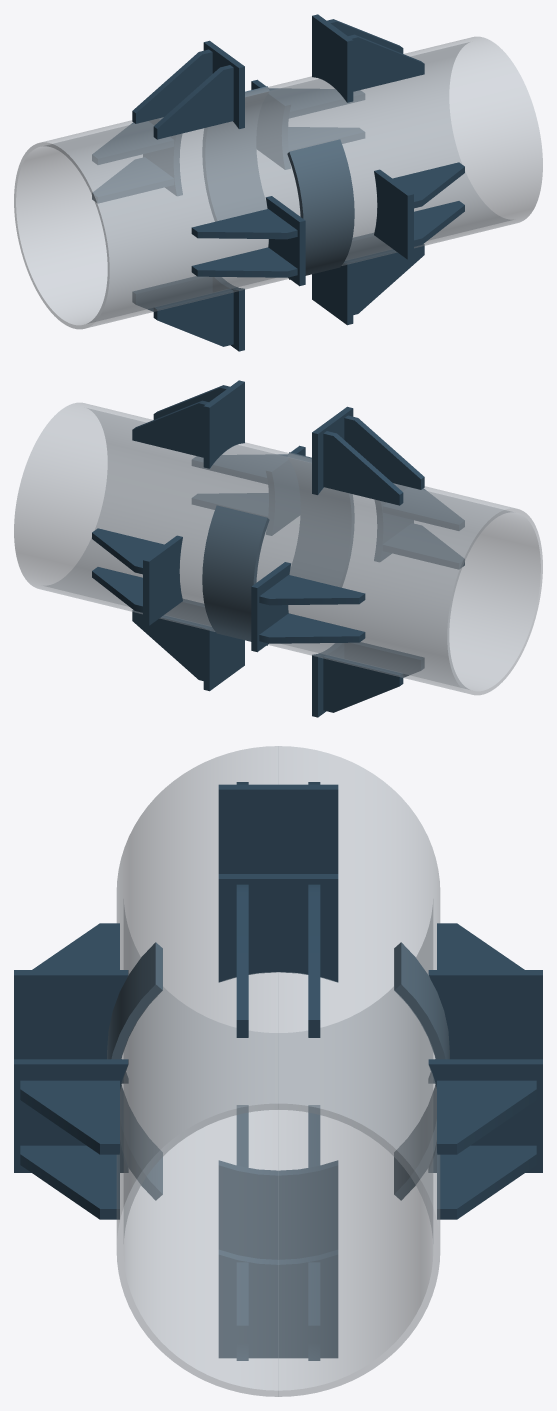
The model's file is TS-668.00.00-02-opora-dn325-ris1.glb.
3 renders of one model, top to bottom at view 1: azimuth 30°, elevation 25°; view 2: azimuth 150°, elevation 25°; view 3: azimuth 270°, elevation 25°, orthographic. The views are drawn at different scales.
Parts seen in each view (by area): view 1: truba, bok_25, bok_26, upor_6, upor_17, upor_1, upor_7, upor_3, upor_14, upor_5, upor_11, upor_12 (+15 smaller); view 2: truba, bok_26, bok_25, upor_5, upor_18, upor_1, upor_19, upor_2, upor_15, upor_6, upor_24, upor_23 (+15 smaller); view 3: truba, upor_4, upor_16, upor_1, upor_13, upor_10, upor_22, bok_25, bok_26, upor_8, upor_21, upor_9 (+11 smaller).
Part boxes in pixels (x1,y1,x2,y2): truba: (14, 36, 542, 329); bok_25: (287, 139, 354, 279); bok_26: (202, 86, 269, 221); upor_6: (153, 65, 233, 139); upor_17: (153, 289, 233, 346); upor_1: (312, 14, 353, 102); upor_7: (374, 169, 413, 259); upor_3: (348, 34, 424, 91); upor_14: (346, 244, 424, 314); upor_5: (132, 49, 212, 123); upor_11: (191, 209, 297, 239); upor_12: (191, 247, 297, 277); truba: (14, 402, 542, 695); bok_26: (202, 505, 269, 645); bok_25: (287, 452, 354, 587); upor_5: (323, 431, 403, 505); upor_18: (323, 655, 403, 712); upor_1: (203, 380, 244, 468); upor_19: (143, 535, 182, 625); upor_2: (132, 400, 208, 457); upor_15: (132, 610, 210, 680); upor_6: (344, 415, 424, 489); upor_24: (259, 575, 365, 605); upor_23: (259, 613, 365, 643); truba: (116, 746, 440, 1396); upor_4: (218, 784, 338, 873); upor_16: (218, 1160, 338, 1259); upor_1: (218, 874, 338, 982); upor_13: (218, 1249, 338, 1358); upor_10: (14, 970, 128, 1083); upor_22: (428, 970, 542, 1083); bok_25: (107, 942, 162, 1200); bok_26: (394, 942, 449, 1200); upor_8: (20, 1080, 119, 1154); upor_21: (437, 1080, 536, 1154); upor_9: (20, 1145, 119, 1219).
Bounding box in the file's own units: 849 × 531 × 531.
